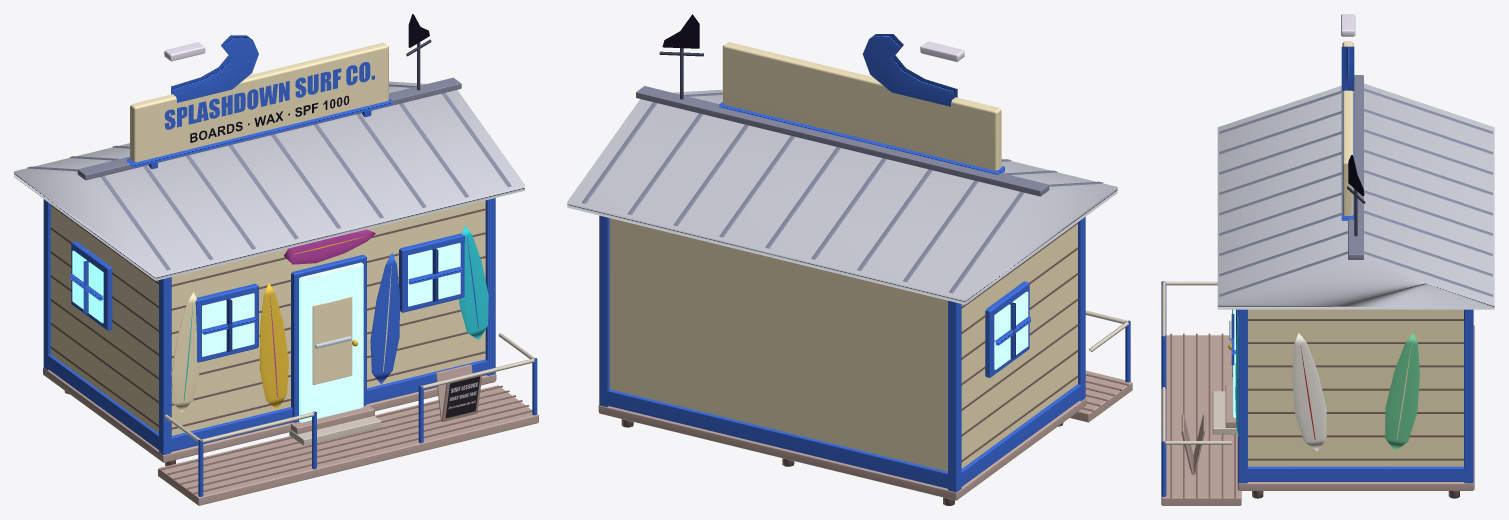
File: surf_shop.glb
3 renders of one model, left to right at view 1: azimuth 30°, elevation 25°; view 2: azimuth 150°, elevation 25°; view 3: azimuth 270°, elevation 25°, orthographic. The views are drawn at different scales.
Parts seen in each view (by area): view 1: Body, Sign, Boards, ChalkBoard; view 2: Body, Sign; view 3: Body, Boards, Sign, ChalkBoard.
Part boxes in pixels (x1,y1,x2,y2): Body: [14, 14, 538, 505]; Sign: [127, 35, 391, 169]; Boards: [171, 226, 488, 412]; ChalkBoard: [436, 364, 482, 421]; Body: [567, 14, 1132, 505]; Sign: [719, 34, 1004, 174]; Body: [1161, 75, 1494, 505]; Boards: [1235, 316, 1419, 450]; Sign: [1341, 14, 1355, 220]; ChalkBoard: [1181, 414, 1205, 474].
Size of the model in its own units: 5.3 by 4.96 by 4.15.
